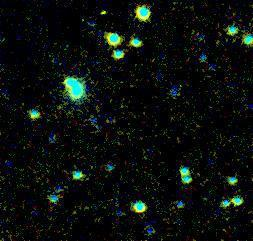star: (89, 0, 119, 27)
